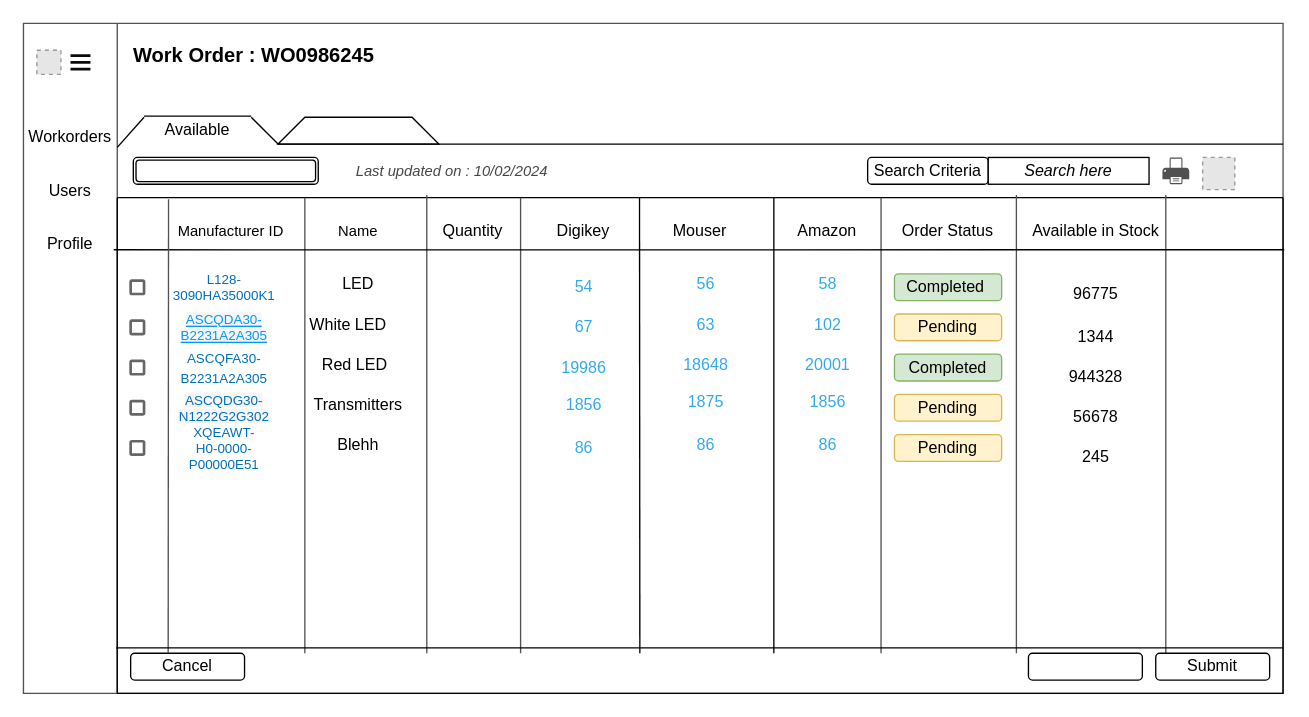
The diagram is 1309 pixels wide and 717 high, and some of its shapes have lost their labels. Grey dashed boxes stand in for pictures. Here are the shapes that lost their labels. From the top down, the box of each, then its label:
(277, 116, 439, 144): Not Available
(132, 156, 318, 184): Check Current Status
(1027, 652, 1142, 680): Reset
